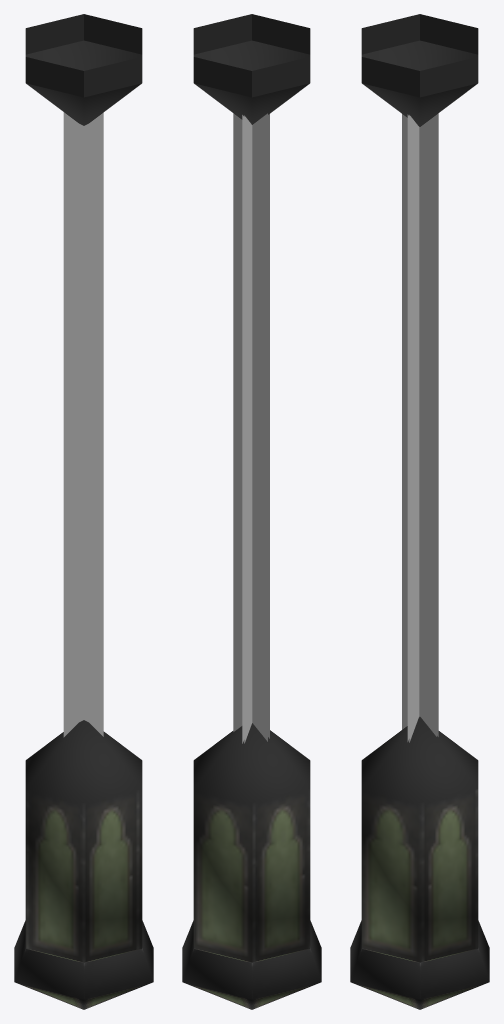
The model's file is light.FBX.
3 renders of one model, left to right at view 1: azimuth 90°, elevation 25°; view 2: azimuth 150°, elevation 25°; view 3: azimuth 330°, elevation 25°, orthographic.
Visible parts, largest first — view 1: Cylinder002, Plane060; view 2: Cylinder002, Plane060; view 3: Cylinder002, Plane060.
Part boxes in pixels (left/top/right/bottom): Cylinder002: left=14, top=14, right=153, bottom=1009; Plane060: left=63, top=112, right=103, bottom=737; Cylinder002: left=182, top=14, right=321, bottom=1009; Plane060: left=233, top=113, right=269, bottom=743; Cylinder002: left=350, top=14, right=489, bottom=1009; Plane060: left=402, top=113, right=438, bottom=742.
Size of the model in its own units: 92.8 by 615 by 80.37.
